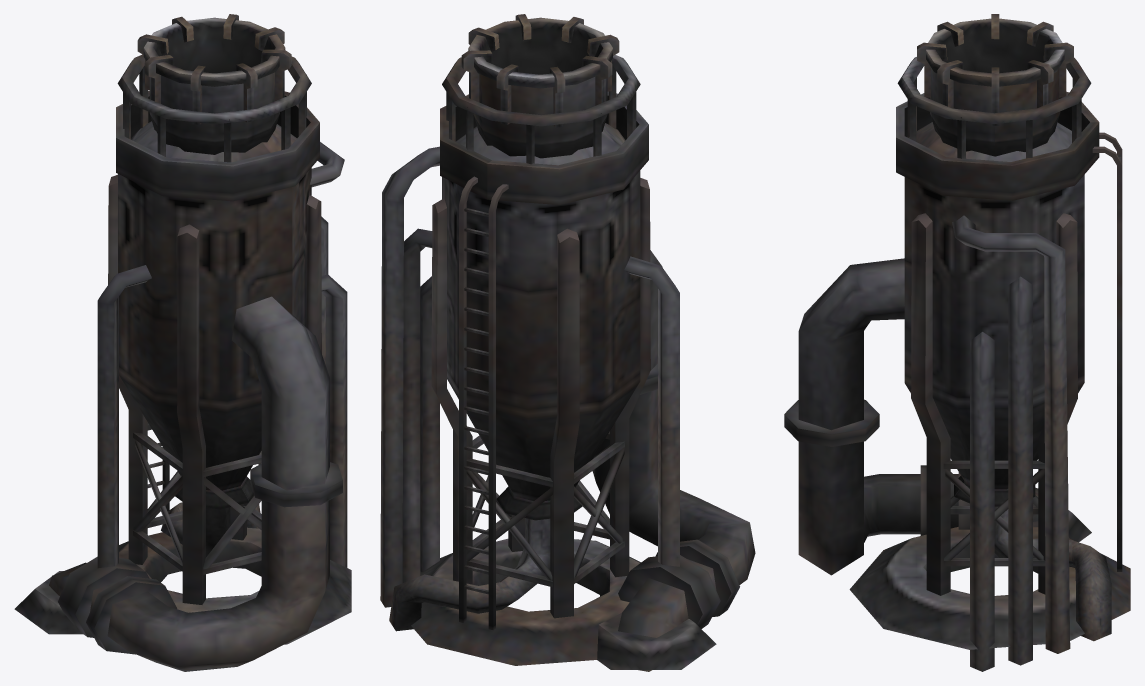
File: SM_EN_1002_guandao03.FBX
3 views of the same model, side by side, from view 1: azimuth 30°, elevation 25°; view 2: azimuth 150°, elevation 25°; view 3: azimuth 270°, elevation 25° (orthographic). The views are drawn at different scales.
Parts seen in each view (by area): view 1: SM_EN_1002_guandao03; view 2: SM_EN_1002_guandao03; view 3: SM_EN_1002_guandao03.
Boxes of the visible parts, x1,y1,x2,y2 form: SM_EN_1002_guandao03: [14, 14, 351, 671]; SM_EN_1002_guandao03: [380, 14, 755, 671]; SM_EN_1002_guandao03: [784, 14, 1130, 671].
Size of the model in its own units: 151 by 277 by 154.
